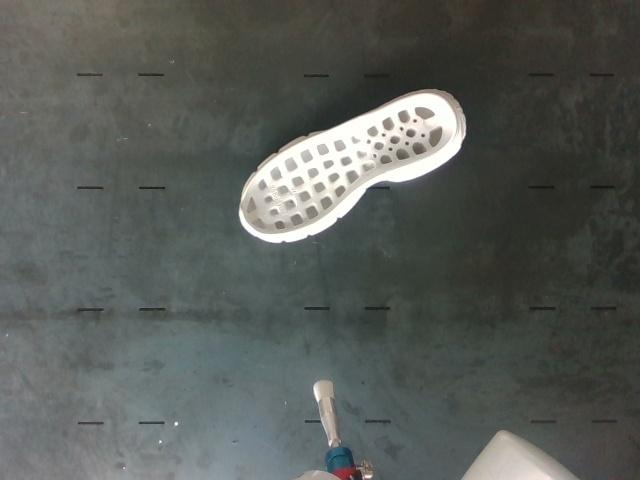shoes: (240, 92, 458, 235)
